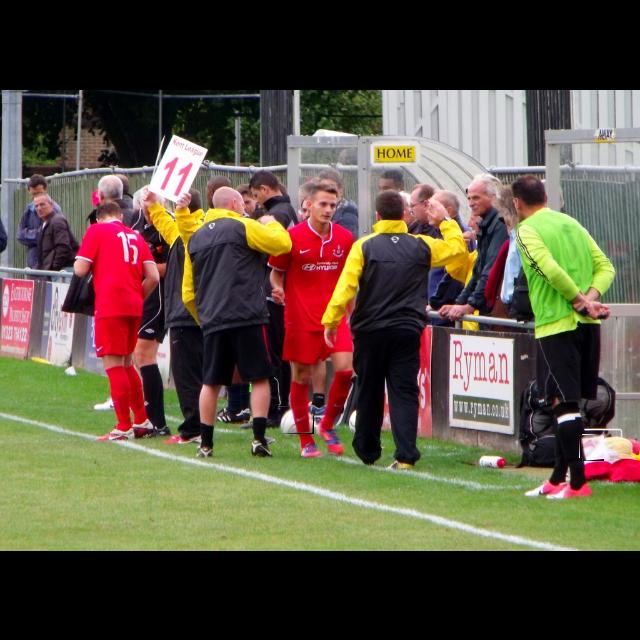Football: (278, 406, 314, 434), (580, 435, 604, 461)
